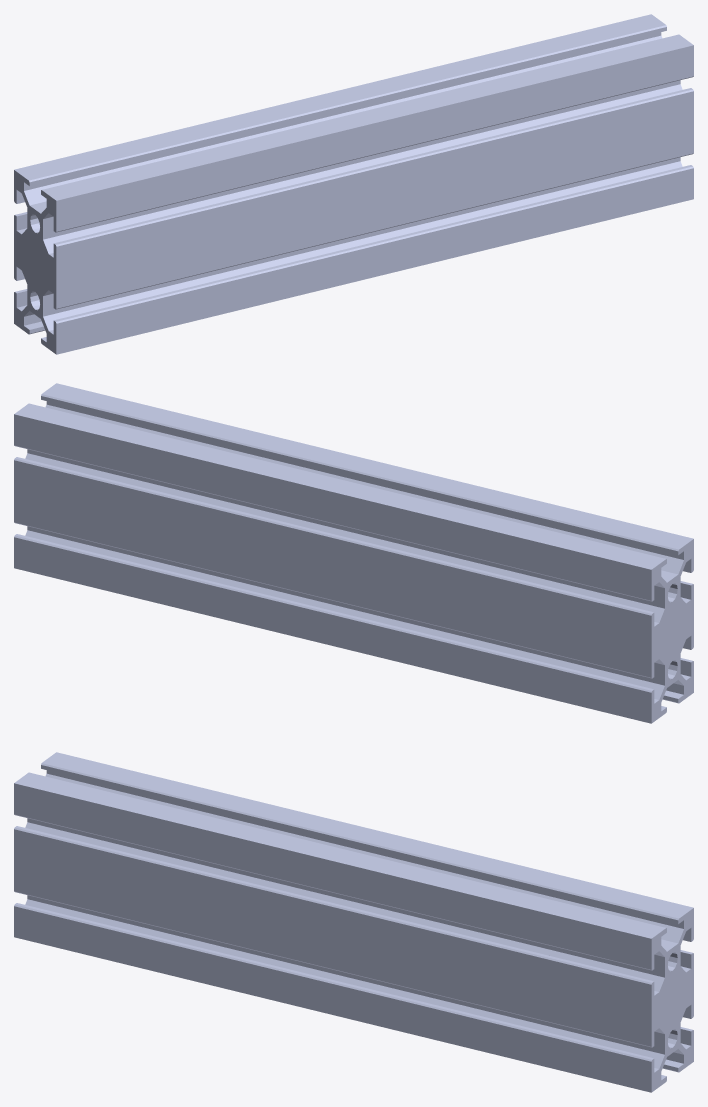
File: suporte_armControl_mesh.dae
3 renders of one model, top to bottom at view 1: azimuth 30°, elevation 25°; view 2: azimuth 150°, elevation 25°; view 3: azimuth 330°, elevation 25°, orthographic.
Visible parts, largest first — view 1: suporte_armControl; view 2: suporte_armControl; view 3: suporte_armControl.
Boxes of the visible parts, x1,y1,x2,y2 form: suporte_armControl: (14, 14, 693, 354); suporte_armControl: (14, 383, 693, 723); suporte_armControl: (14, 752, 693, 1092).
Bounding box in the file's own units: 0.26 × 0.06 × 0.03.
